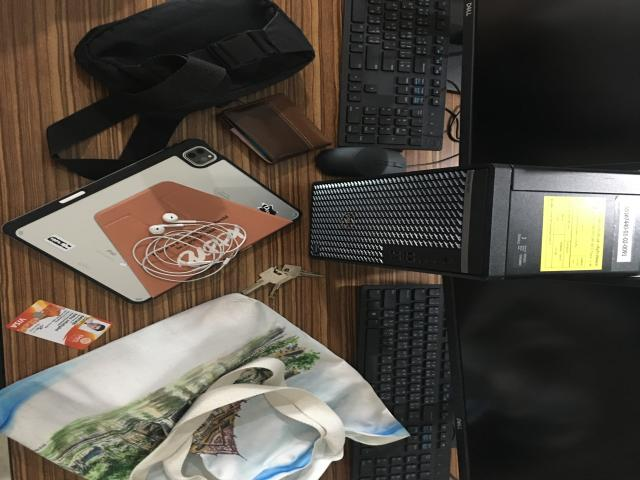Keys: (242, 265, 314, 296)
Mouse: (315, 146, 407, 178)
Wallet: (218, 89, 334, 168)
wire: (137, 213, 242, 284)
